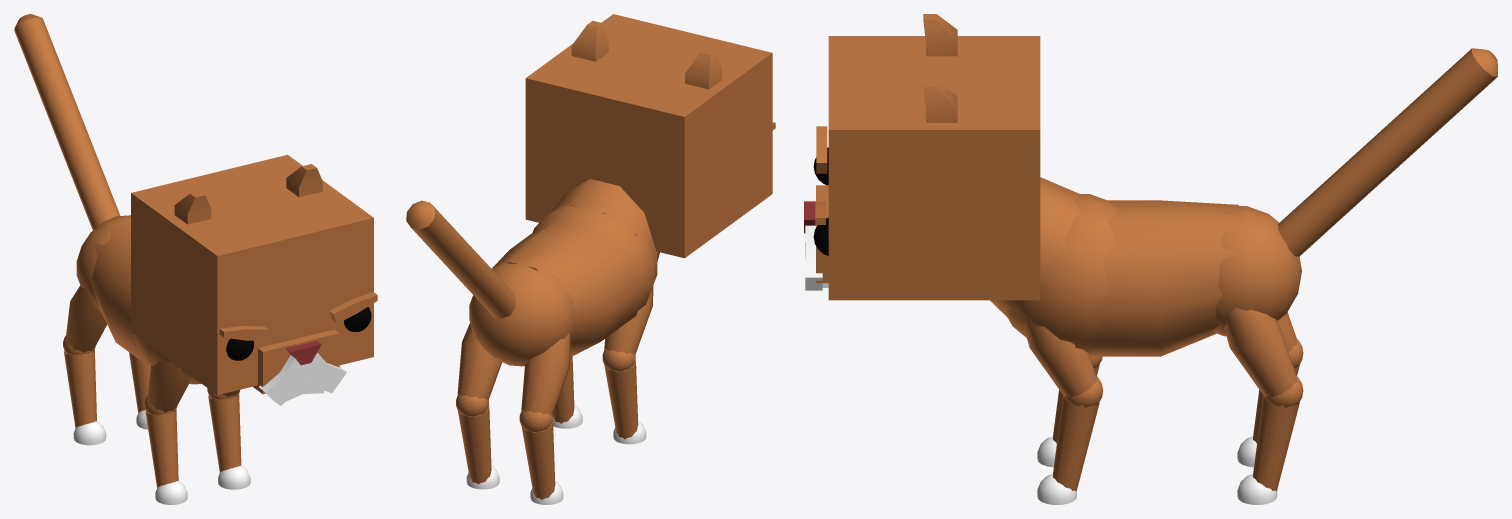
Rendered from cat.FBX.
3 views of the same model, side by side, from view 1: azimuth 30°, elevation 25°; view 2: azimuth 150°, elevation 25°; view 3: azimuth 270°, elevation 25° (orthographic). The views are drawn at different scales.
Parts seen in each view (by area): view 1: head, tail00, tummy00, lower_leg00, lower_leg01, lower_leg03, upper_leg03, upper_leg02, butt00, upper_lip01, upper_lip00, ear01 (+11 smaller); view 2: head, tummy00, butt00, tail00, chest00, upper_leg03, neck00, upper_leg01, lower_leg02, lower_leg01, lower_leg03, upper_leg02 (+6 smaller); view 3: head, tummy00, tail00, chest00, butt00, upper_leg01, neck00, upper_leg00, lower_leg02, lower_leg00, ear01, ear00 (+3 smaller).
Boxes of the visible parts, x1,y1,x2,y2 form: head: (131, 154, 373, 394); tail00: (14, 14, 120, 229); tummy00: (90, 221, 151, 367); lower_leg00: (208, 394, 241, 472); lower_leg01: (145, 410, 178, 487); lower_leg03: (64, 350, 96, 428); upper_leg03: (66, 285, 106, 352); upper_leg02: (147, 360, 189, 412); butt00: (76, 215, 130, 312); upper_lip01: (259, 355, 312, 405); upper_lip00: (306, 352, 346, 393); ear01: (174, 191, 211, 224); head: (525, 14, 772, 258); tummy00: (492, 219, 640, 356); butt00: (469, 259, 575, 366); tail00: (406, 200, 515, 318); chest00: (532, 204, 657, 314); upper_leg03: (521, 334, 570, 415); neck00: (551, 179, 659, 261); upper_leg01: (457, 323, 501, 399); lower_leg02: (458, 405, 491, 484); lower_leg01: (604, 360, 638, 439); lower_leg03: (521, 421, 555, 500); upper_leg02: (604, 286, 653, 354); head: (816, 36, 1040, 300); tummy00: (1075, 200, 1238, 356); tail00: (1278, 48, 1497, 256); chest00: (1006, 194, 1117, 352); butt00: (1213, 206, 1301, 336); upper_leg01: (1224, 307, 1296, 397); neck00: (990, 177, 1079, 317); upper_leg00: (1023, 315, 1096, 397); lower_leg02: (1253, 395, 1299, 491); lower_leg00: (1053, 396, 1099, 491); ear01: (923, 14, 957, 56); ear00: (923, 80, 957, 122).
Size of the model in its own units: 791 by 1681 by 2476.
